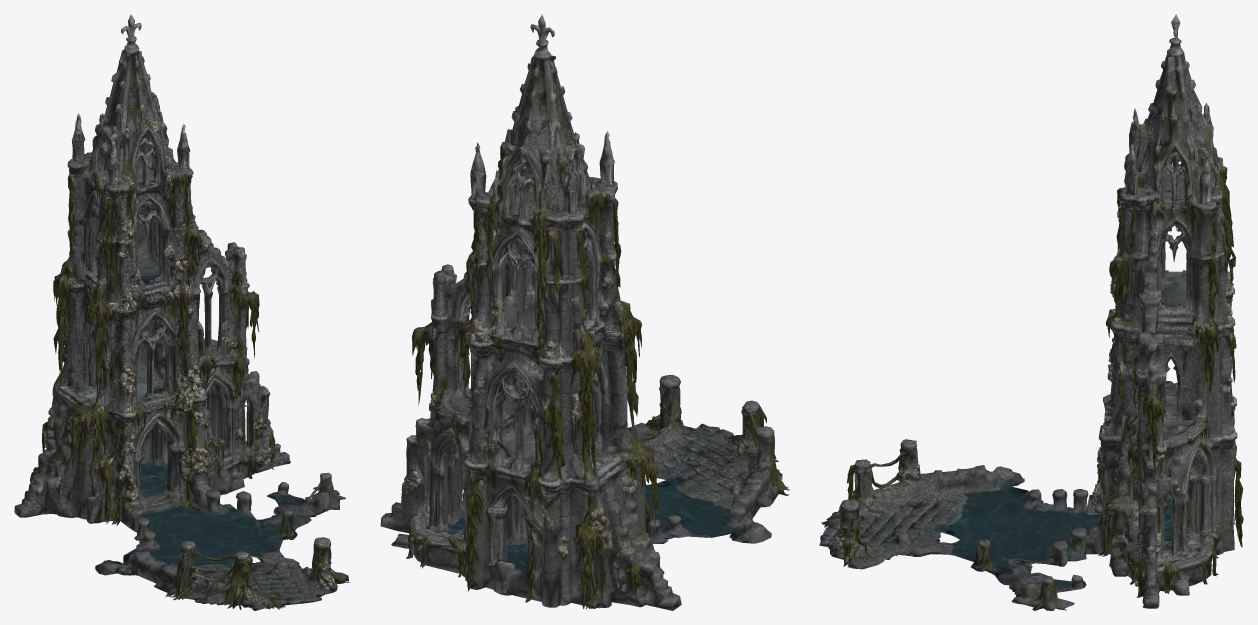
Rendered from drowned-church.glb.
The picture shows the model from 3 angles, left to right: view 1: azimuth 30°, elevation 25°; view 2: azimuth 150°, elevation 25°; view 3: azimuth 270°, elevation 25°; orthographic projection. The views are drawn at different scales.
Size of the model in its own units: 1.11 by 1.9 by 1.41.
Materials: 1 (1 with a texture image).
